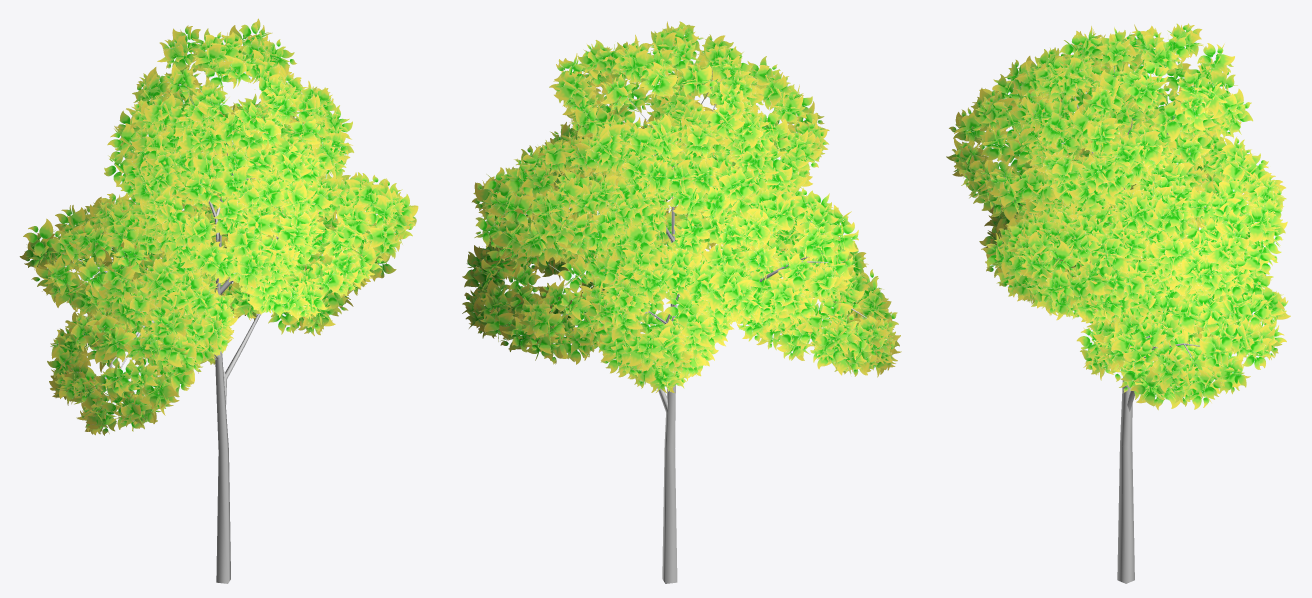
The model's file is MOD_Tree_1.fbx.
The picture shows the model from 3 angles, left to right: view 1: azimuth 30°, elevation 25°; view 2: azimuth 150°, elevation 25°; view 3: azimuth 270°, elevation 25°; orthographic projection. The views are drawn at different scales.
Parts seen in each view (by area): view 1: Leaves, Trunk; view 2: Leaves, Trunk; view 3: Leaves, Trunk.
Boxes of the visible parts, bbox=[...] form: Leaves: bbox=[19, 18, 418, 435]; Trunk: bbox=[63, 84, 318, 583]; Leaves: bbox=[462, 21, 901, 392]; Trunk: bbox=[548, 70, 866, 583]; Leaves: bbox=[946, 23, 1290, 410]; Trunk: bbox=[1061, 66, 1233, 583].
Size of the model in its own units: 5.22 by 7 by 4.09.
